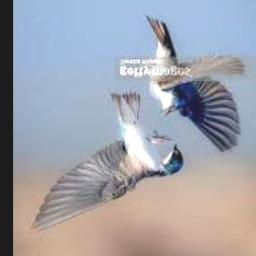Swallow: (30, 93, 183, 234), (146, 18, 244, 152)
